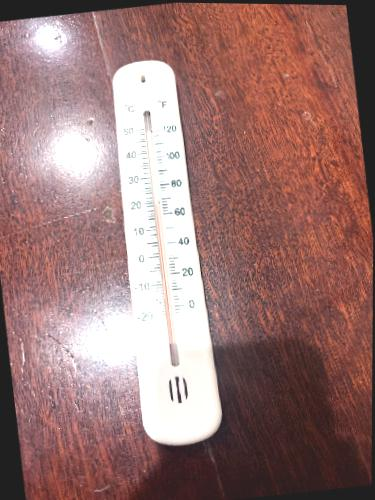thermo: (98, 57, 226, 450)
